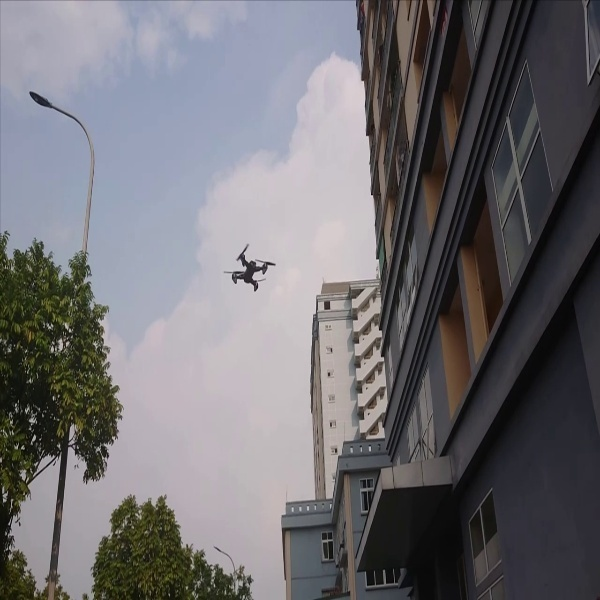drone: (218, 237, 283, 295)
